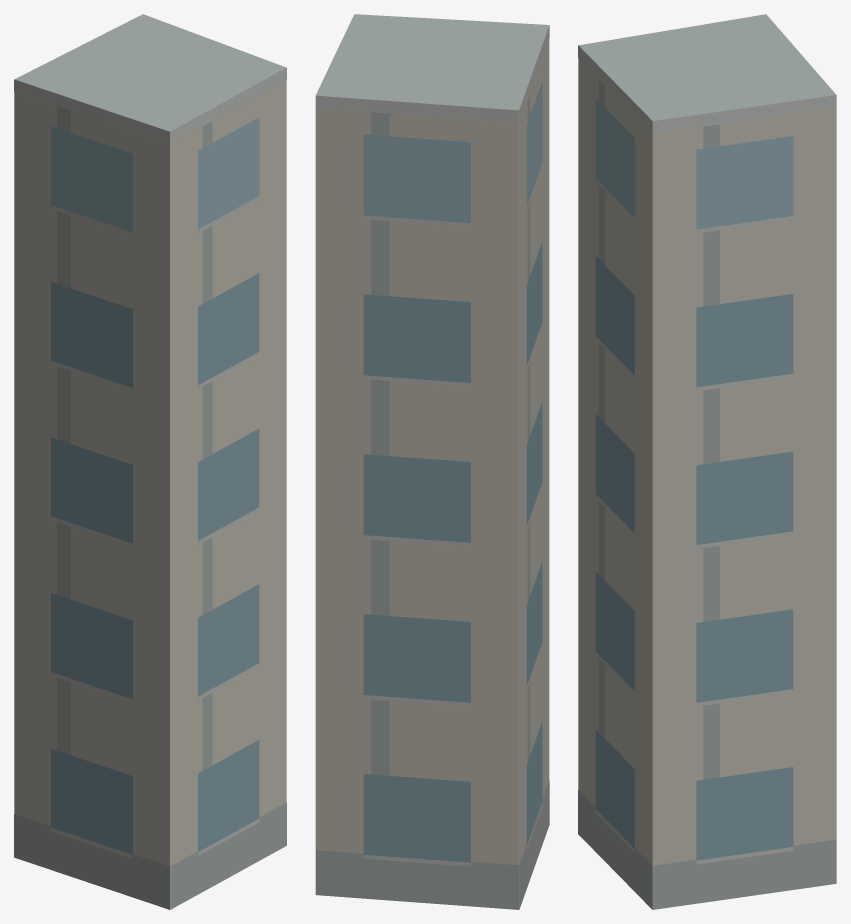
The model's file is survey-upis-32665789.glb.
3 views of the same model, side by side, from view 1: azimuth 30°, elevation 25°; view 2: azimuth 150°, elevation 25°; view 3: azimuth 270°, elevation 25° (orthographic). The views are drawn at different scales.
Parts seen in each view (by area): view 1: survey-upis-32665789.tmp; view 2: survey-upis-32665789.tmp; view 3: survey-upis-32665789.tmp.
Boxes of the visible parts, left/top/right/bottom form: survey-upis-32665789.tmp: left=14, top=14, right=286, bottom=909; survey-upis-32665789.tmp: left=315, top=14, right=549, bottom=909; survey-upis-32665789.tmp: left=578, top=14, right=836, bottom=909.
Bounding box in the file's own units: 4.45 × 15.25 × 4.53.
